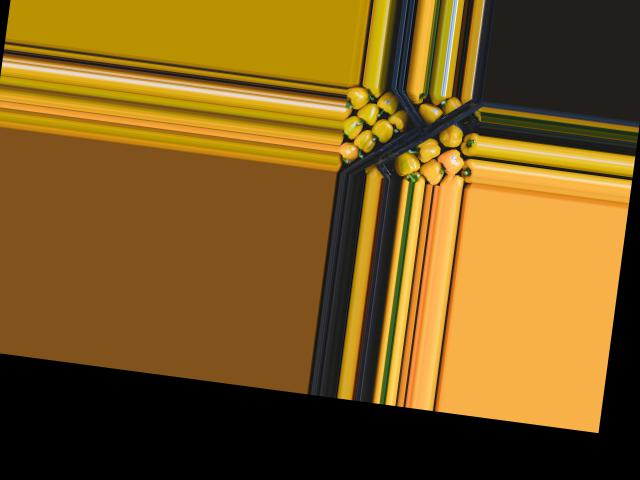bell_pepper: (346, 81, 375, 108)
